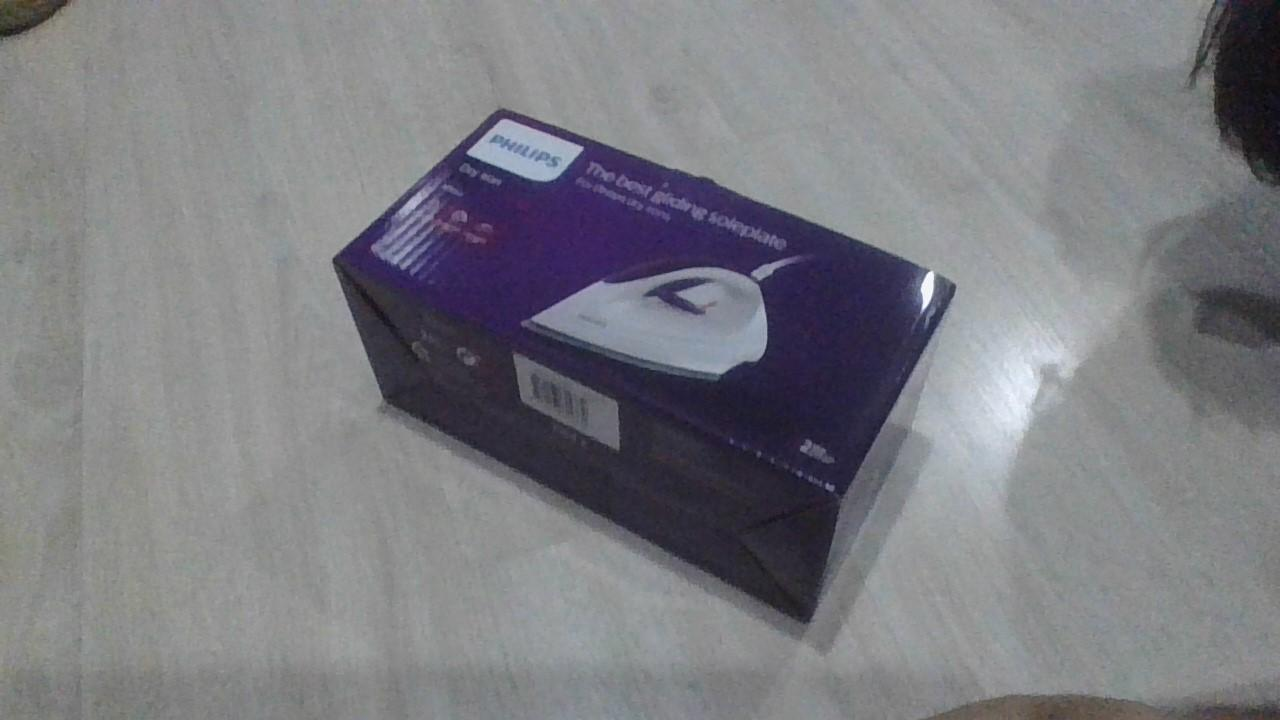IRON: (327, 103, 960, 633)
